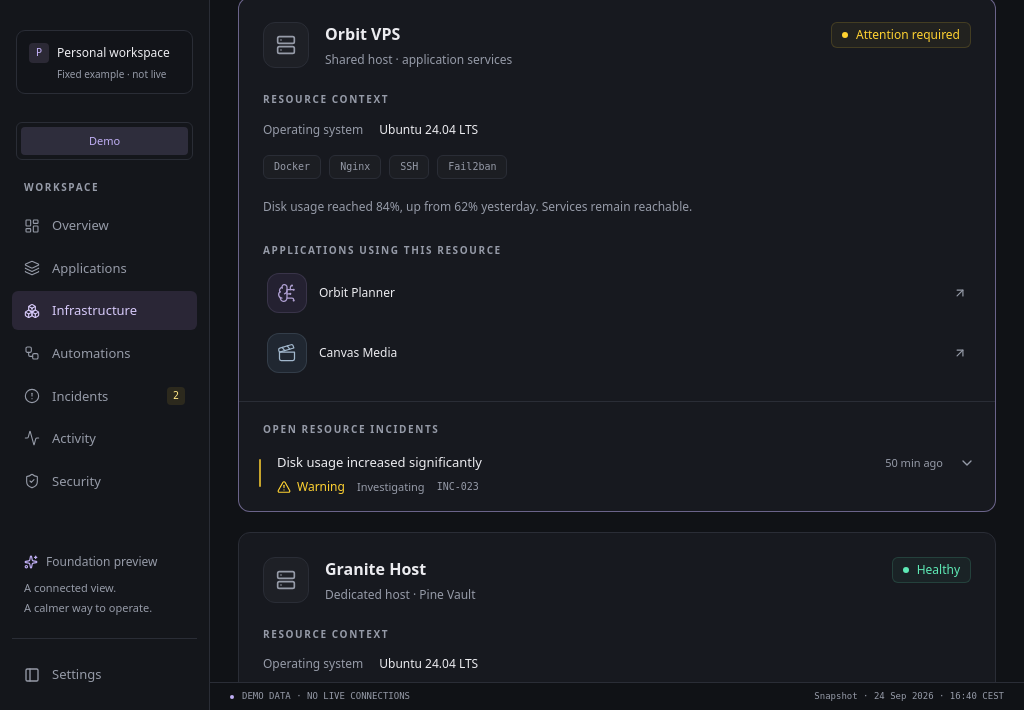
Test case: workspace navigation › keeps infrastructure-to-application navigation connected
The image size is (1024, 710).
(page scrolled)
Click the link "Canvas Media".
click(287, 353)  # box x1=263 y1=329 x2=971 y2=377
(page scrolled)
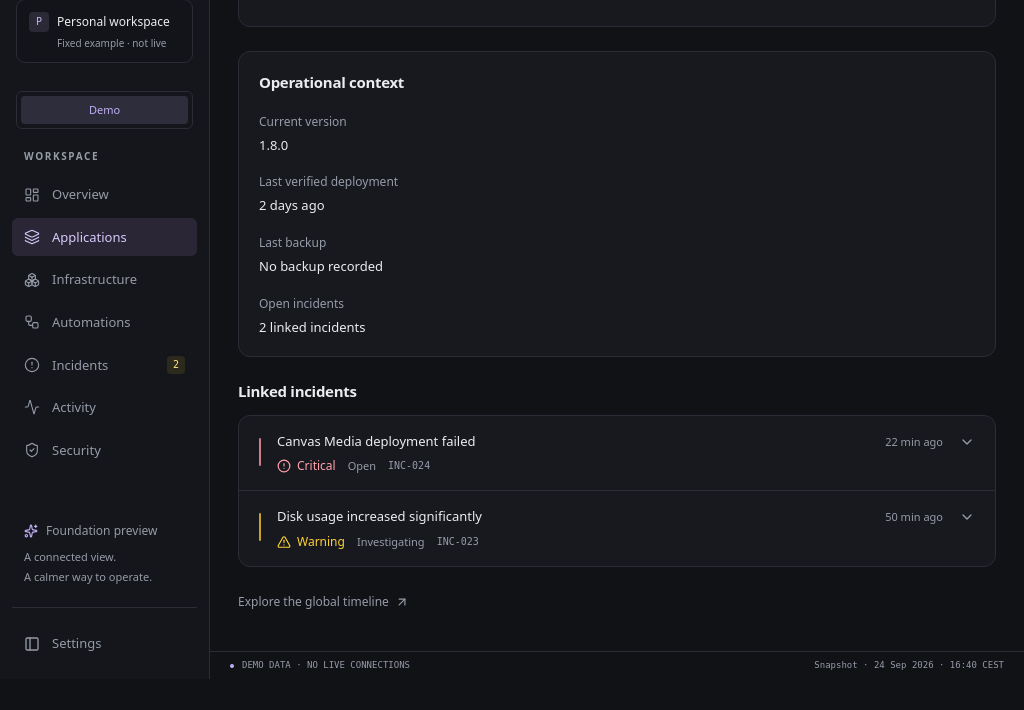
Expected: the text "2 linked incidents" is shown, x1=259 y1=318 x2=366 y2=336
